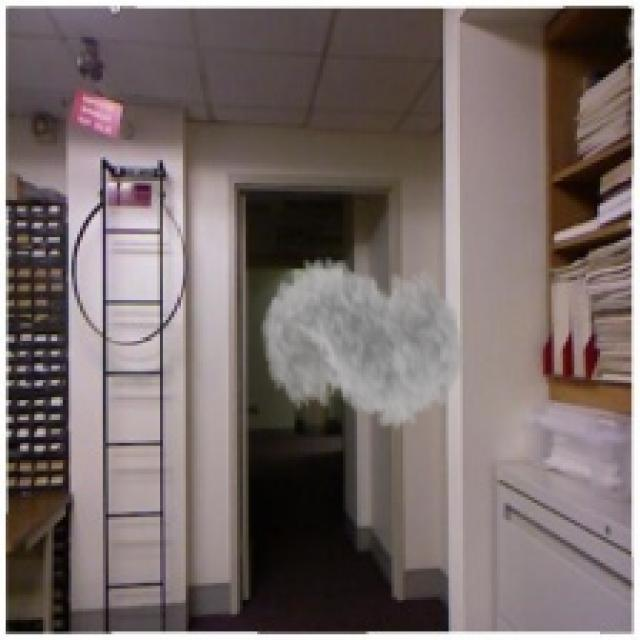Smoke: (260, 234, 466, 446)
